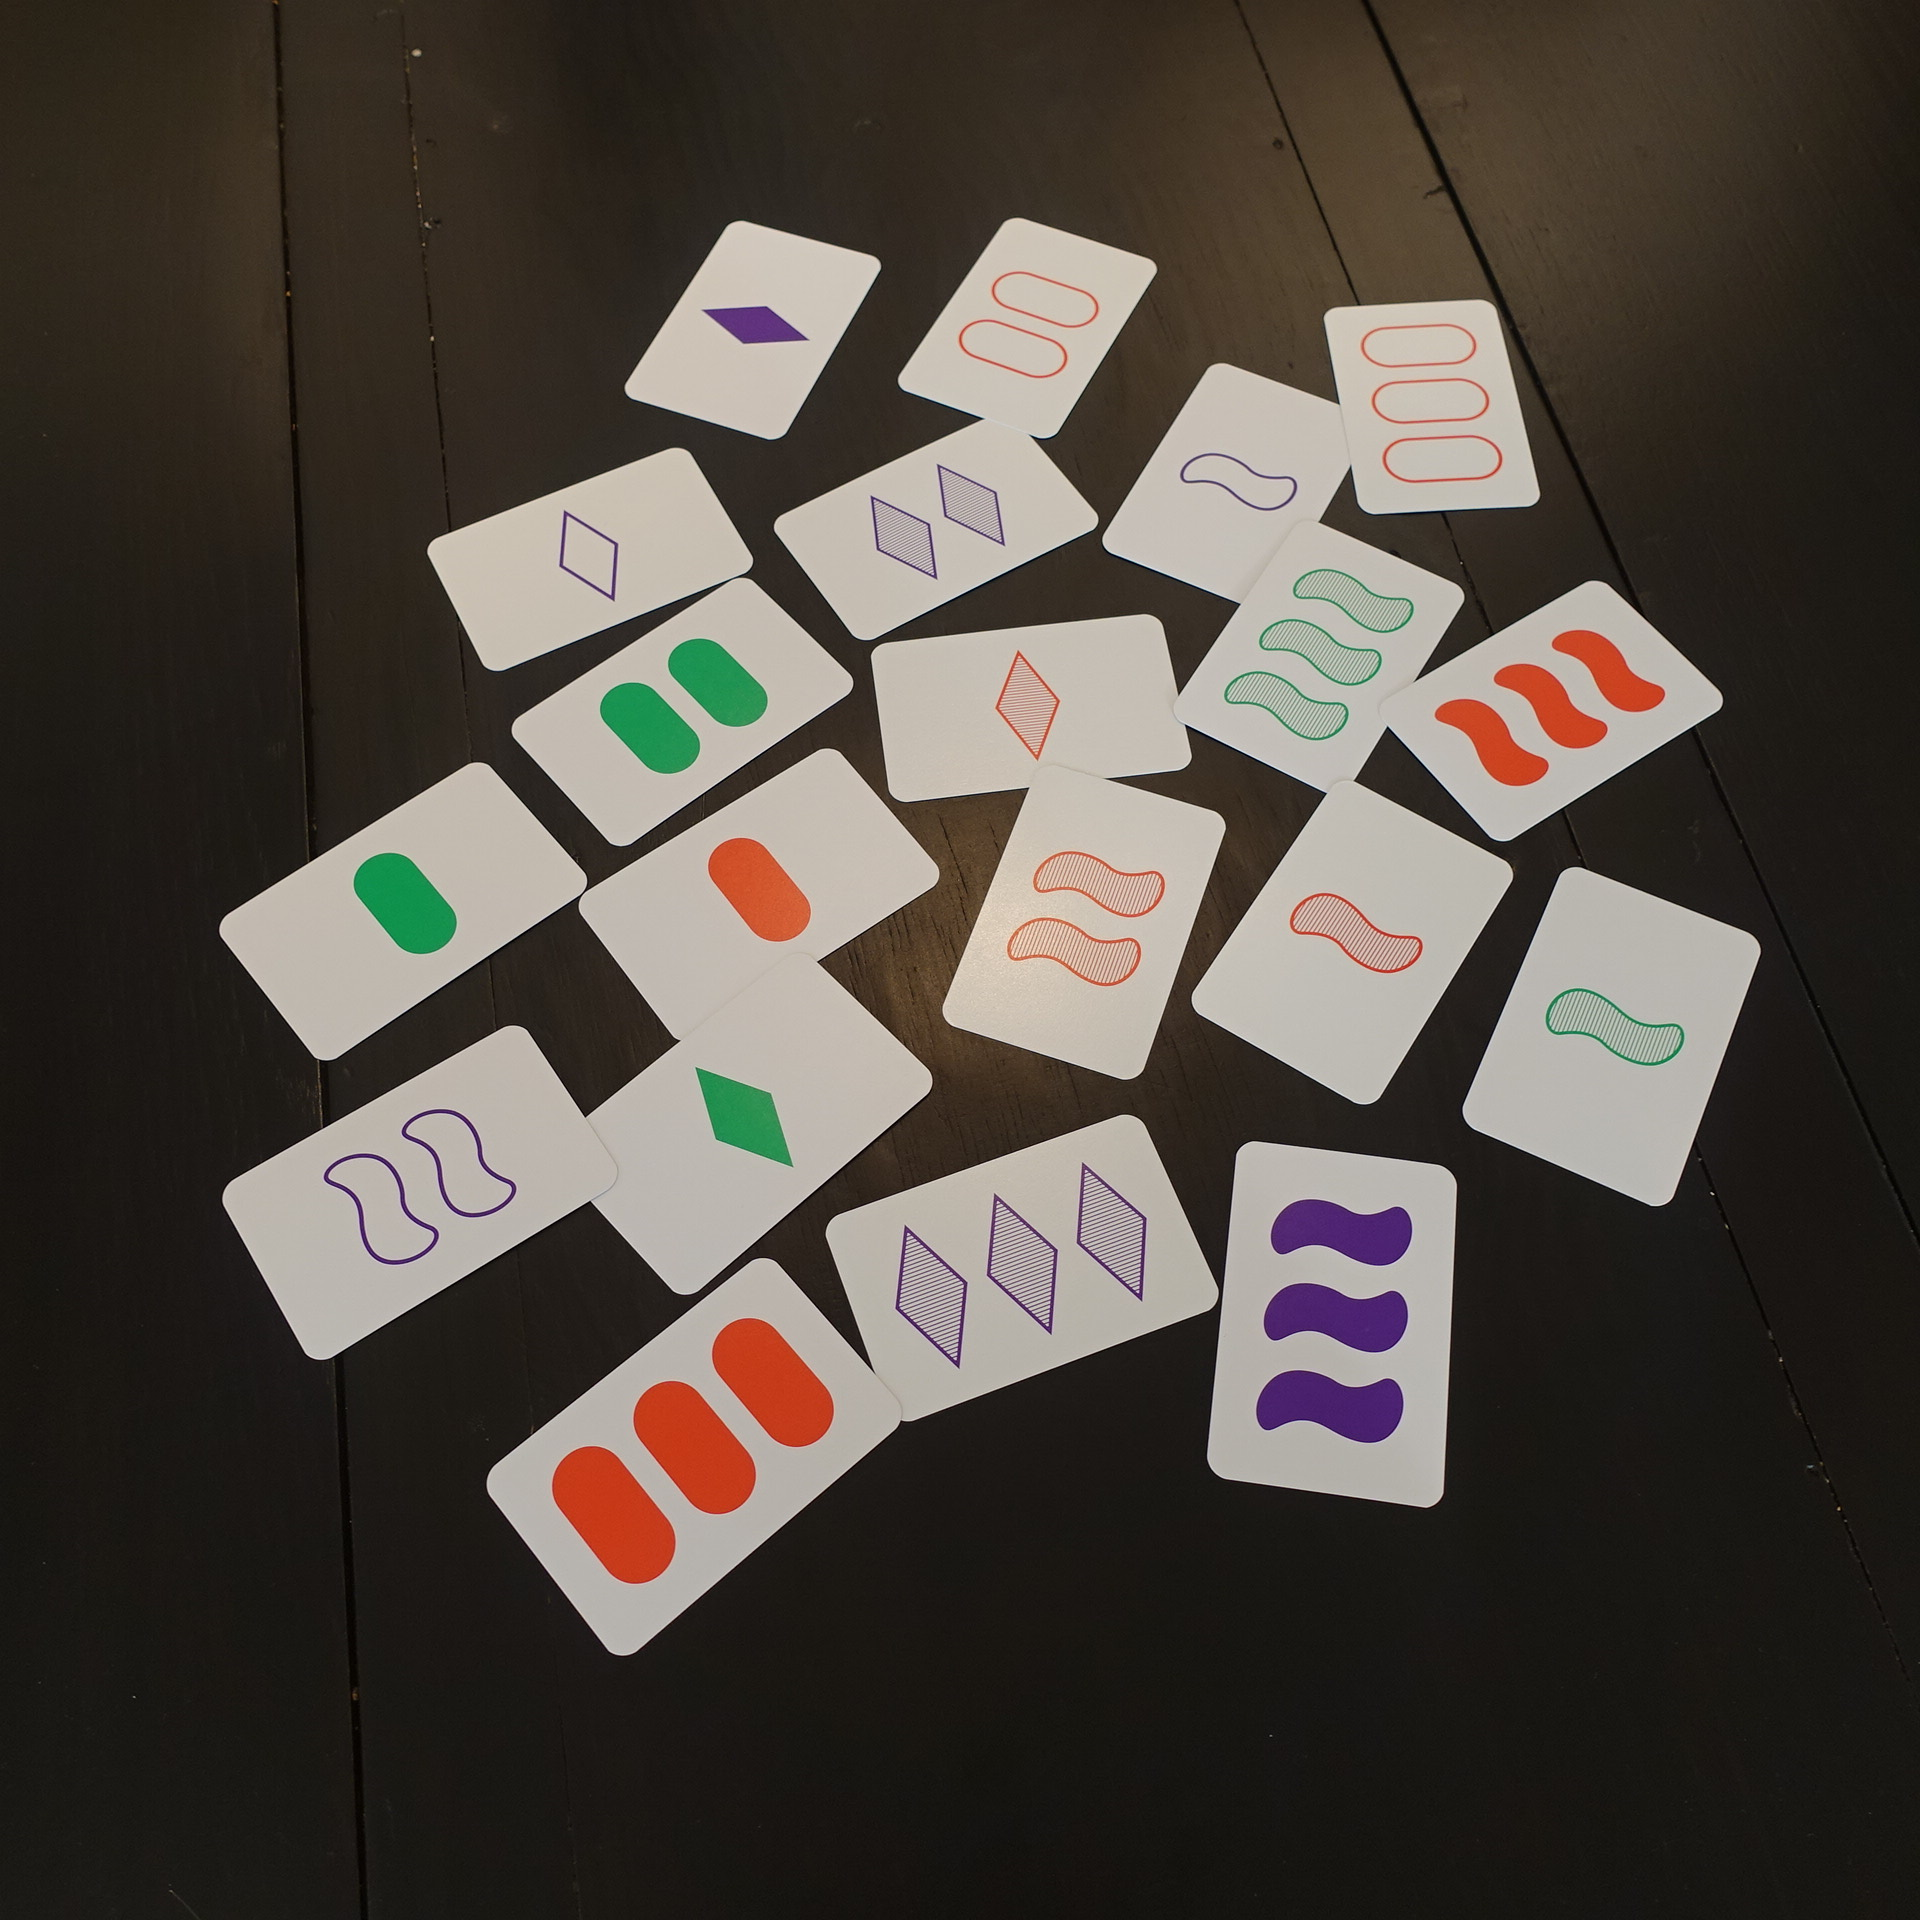c-1-f-d-g: (476, 1243, 909, 1663), (211, 1016, 629, 1370), (542, 937, 942, 1301), (818, 1102, 1233, 1431), (570, 740, 949, 1064), (215, 754, 596, 1069), (1182, 774, 1523, 1116), (1451, 858, 1774, 1217), (1199, 1124, 1470, 1519), (934, 758, 1238, 1094), (1371, 573, 1734, 851), (505, 571, 860, 851), (1167, 512, 1473, 800), (765, 403, 1109, 651), (420, 441, 760, 679), (1095, 348, 1377, 621), (863, 610, 1199, 814), (884, 209, 1167, 448), (615, 213, 890, 448), (1313, 288, 1553, 524)
